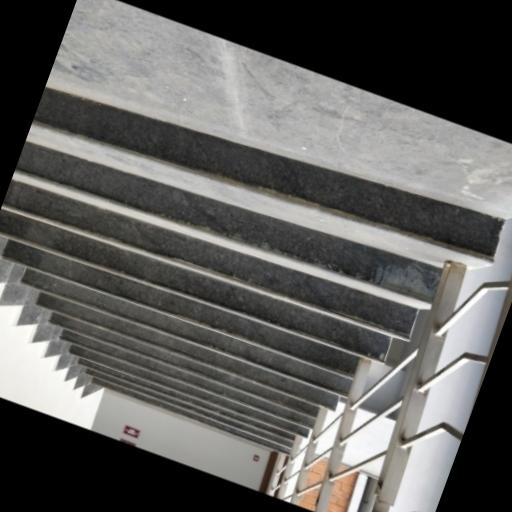stairs: (0, 87, 503, 452)
